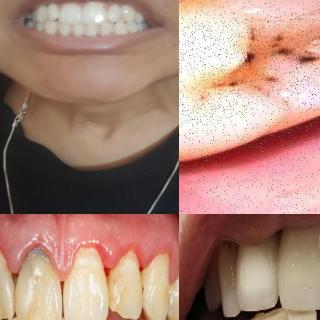Gum Swelling: (36, 228, 179, 283), (0, 214, 34, 273)
calculus: (18, 239, 59, 283)
cavities: (215, 15, 320, 136)
maligned: (0, 249, 10, 320), (114, 20, 130, 38)
